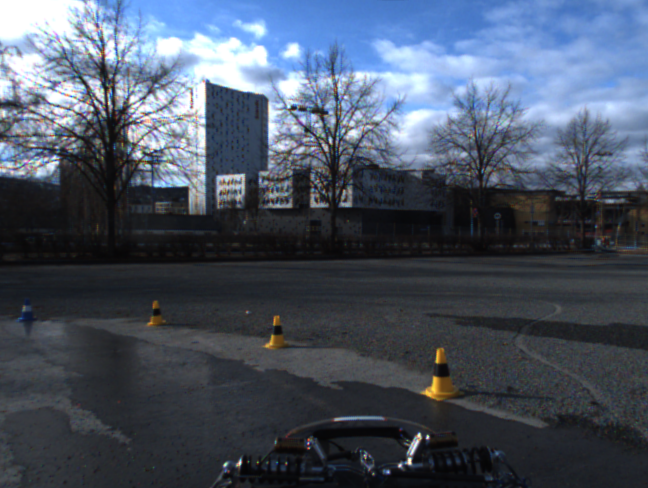cone-small-blue: (16, 296, 37, 323)
cone-small-yellow: (420, 347, 465, 401), (262, 315, 291, 350), (145, 300, 168, 326)
